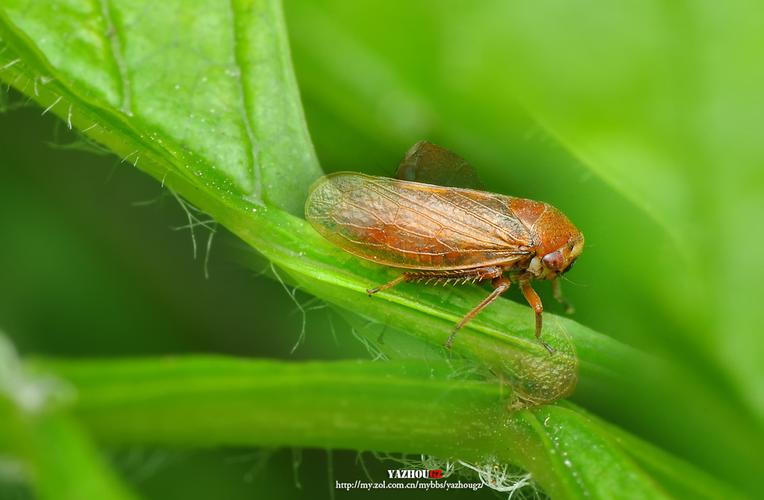Cicadellidae: (304, 139, 584, 356)
